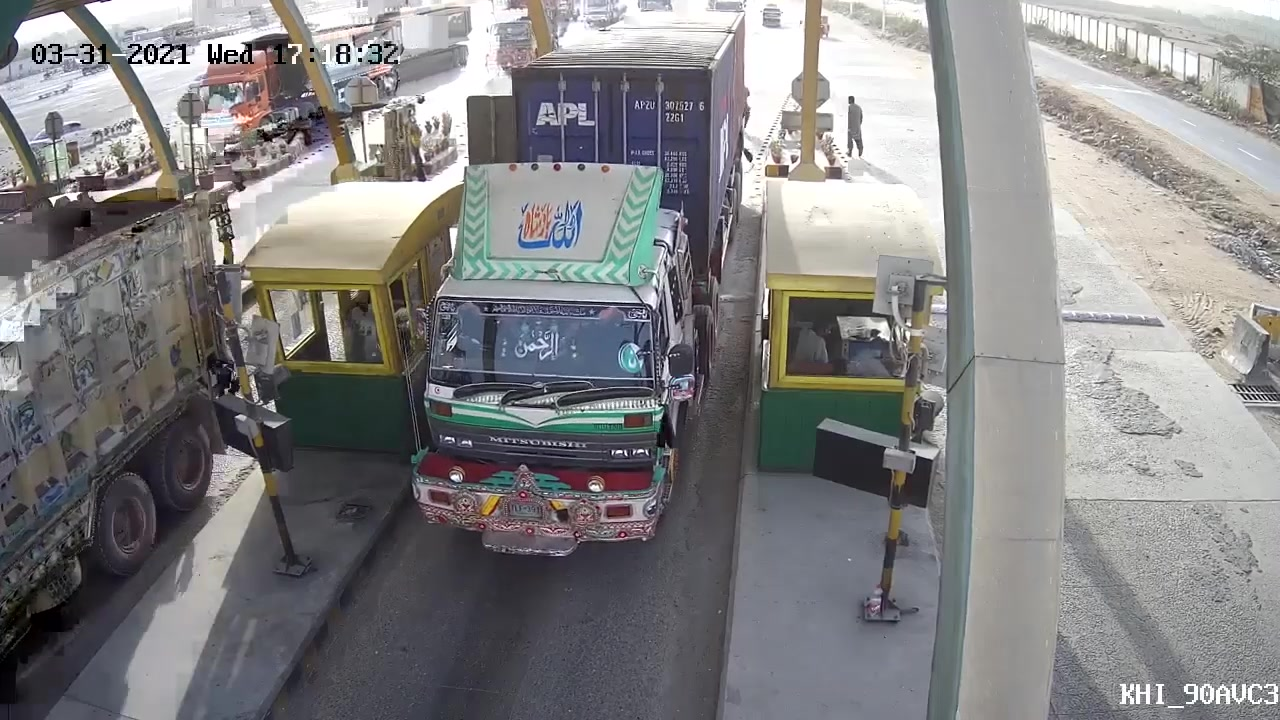F6: (420, 5, 752, 572)
